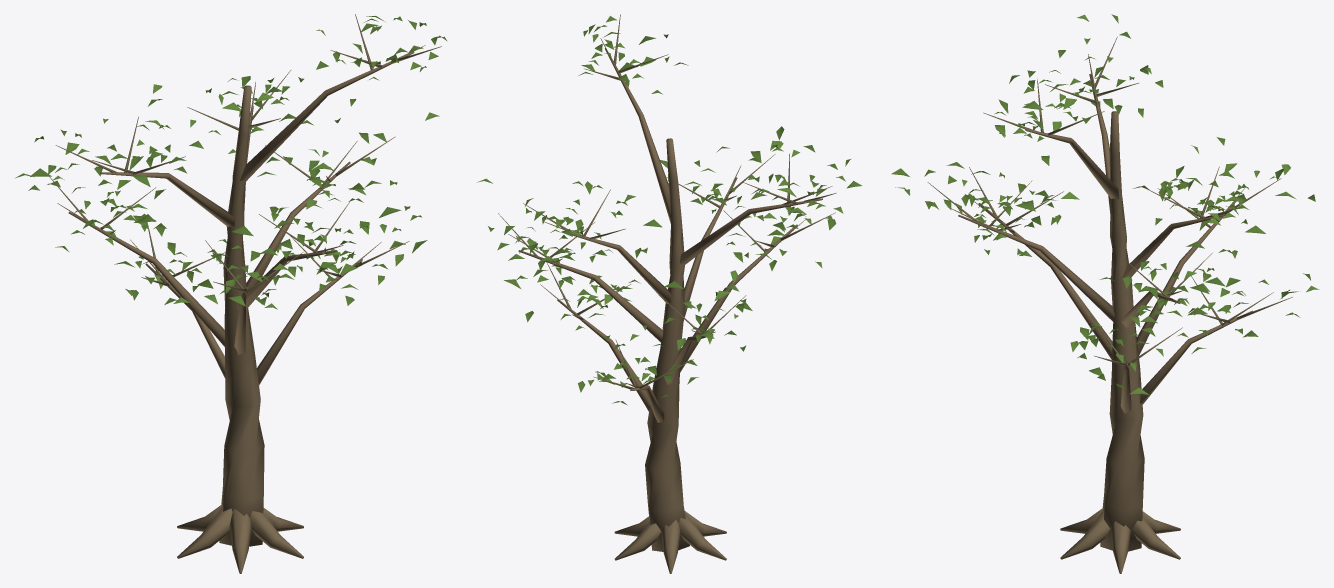
Rendered from hero_tree_lod2.glb.
3 renders of one model, left to right at view 1: azimuth 30°, elevation 25°; view 2: azimuth 150°, elevation 25°; view 3: azimuth 270°, elevation 25°, orthographic. The views are drawn at different scales.
Visible parts, largest first — view 1: hero_tree_lod2; view 2: hero_tree_lod2; view 3: hero_tree_lod2.
Boxes of the visible parts, x1,y1,x2,y2 form: hero_tree_lod2: (15, 14, 447, 573); hero_tree_lod2: (477, 14, 862, 573); hero_tree_lod2: (891, 14, 1319, 573).
Bounding box in the file's own units: 3.89 × 4.65 × 3.61.
